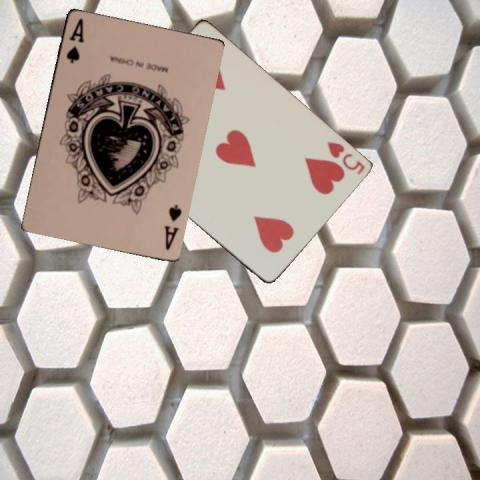5h: (323, 138, 366, 177)
As: (63, 14, 85, 64), (162, 201, 184, 251)
